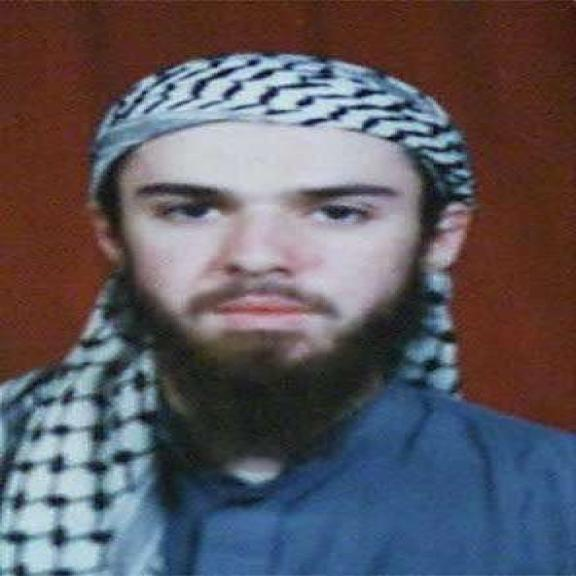face: (88, 126, 476, 382)
